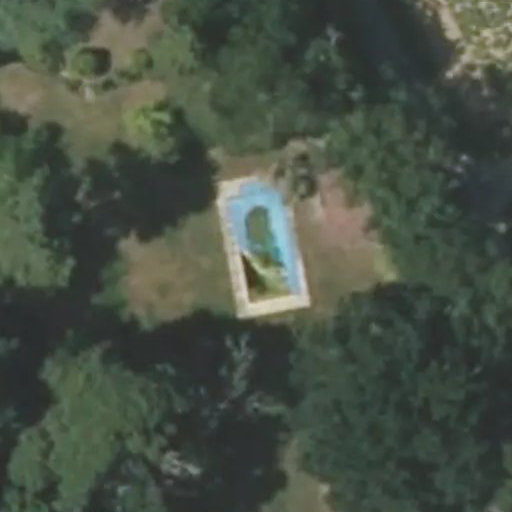pool: (210, 189, 299, 295)
